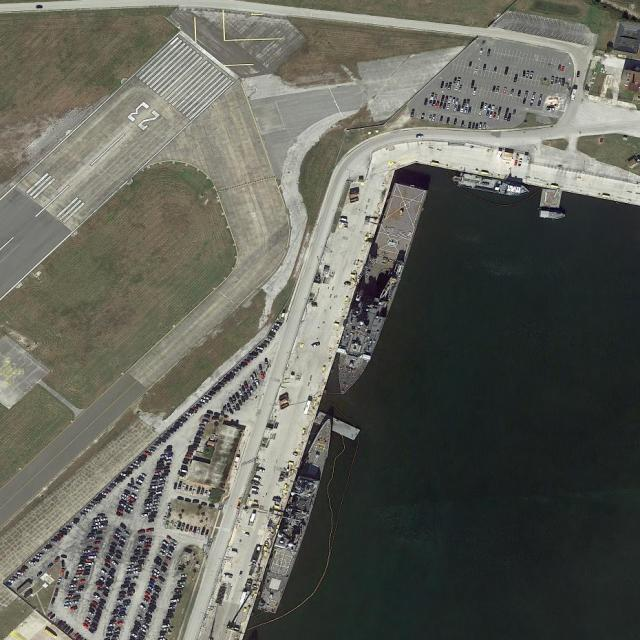Cruiser: (257, 414, 337, 615)
Landing: (326, 178, 430, 403)
Other Warship: (455, 172, 531, 200), (538, 210, 566, 220)
